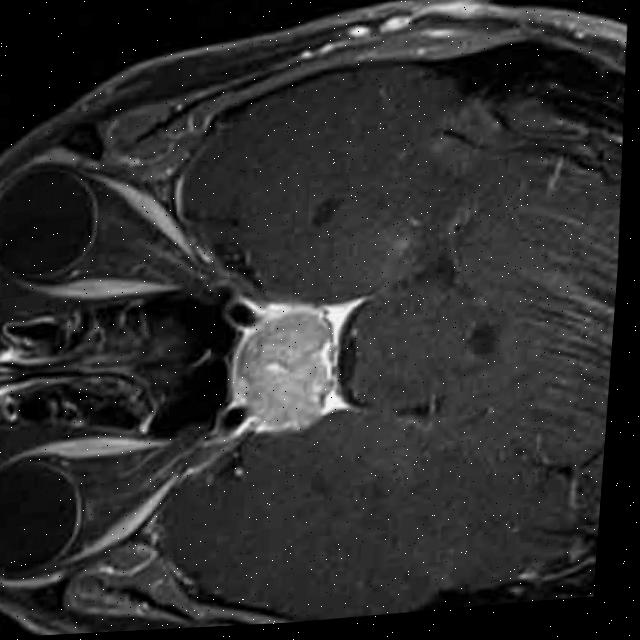Pituitary: (230, 309, 342, 435)
